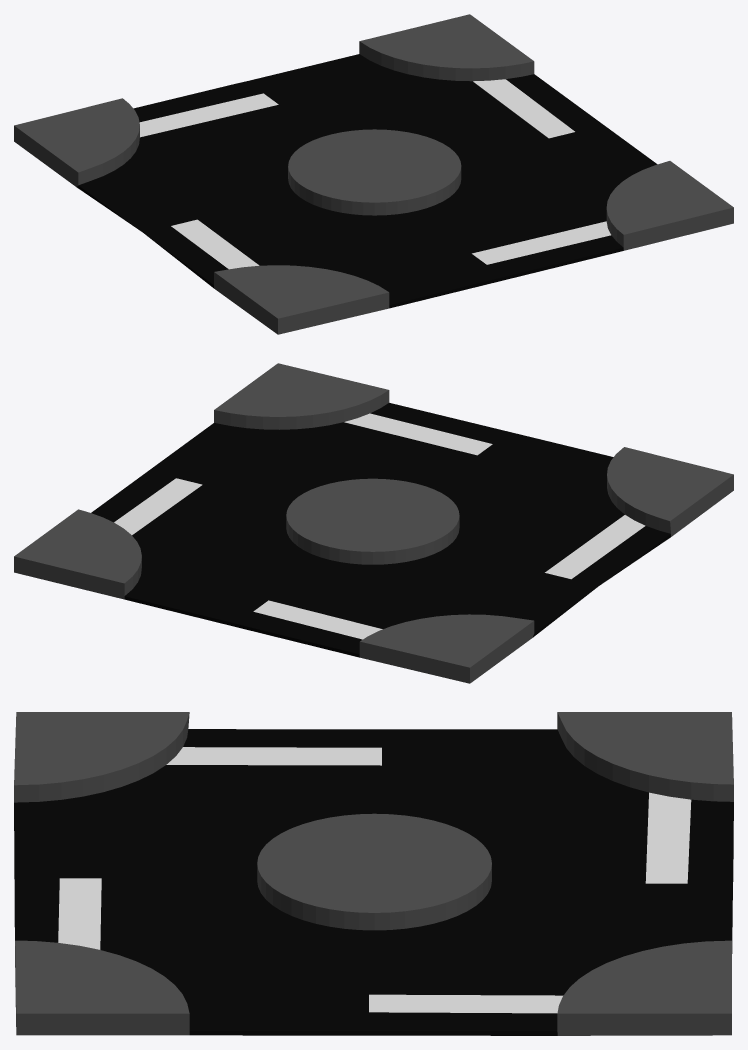
The model's file is low_poly_round_about_road.glb.
3 views of the same model, one above another, from view 1: azimuth 30°, elevation 25°; view 2: azimuth 150°, elevation 25°; view 3: azimuth 270°, elevation 25° (orthographic). The views are drawn at different scales.
Visible parts, largest first — view 1: RoundAbout_0; view 2: RoundAbout_0; view 3: RoundAbout_0.
Part boxes in pixels (x1=…): RoundAbout_0: x1=14, y1=14, x2=733, y2=334; RoundAbout_0: x1=14, y1=363, x2=733, y2=683; RoundAbout_0: x1=14, y1=712, x2=733, y2=1035.
Size of the model in its own units: 11.92 by 0.4029 by 11.99.
1 material, 1 textured.
